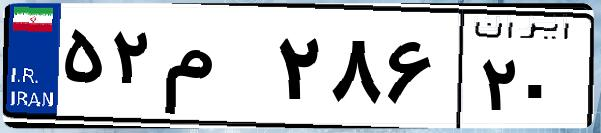0: (525, 38, 570, 115)
2: (270, 28, 330, 110), (475, 38, 525, 113), (110, 28, 158, 98)
5: (57, 26, 110, 100)
6: (385, 28, 445, 110)
8: (330, 28, 385, 110)
م: (158, 20, 270, 120)
